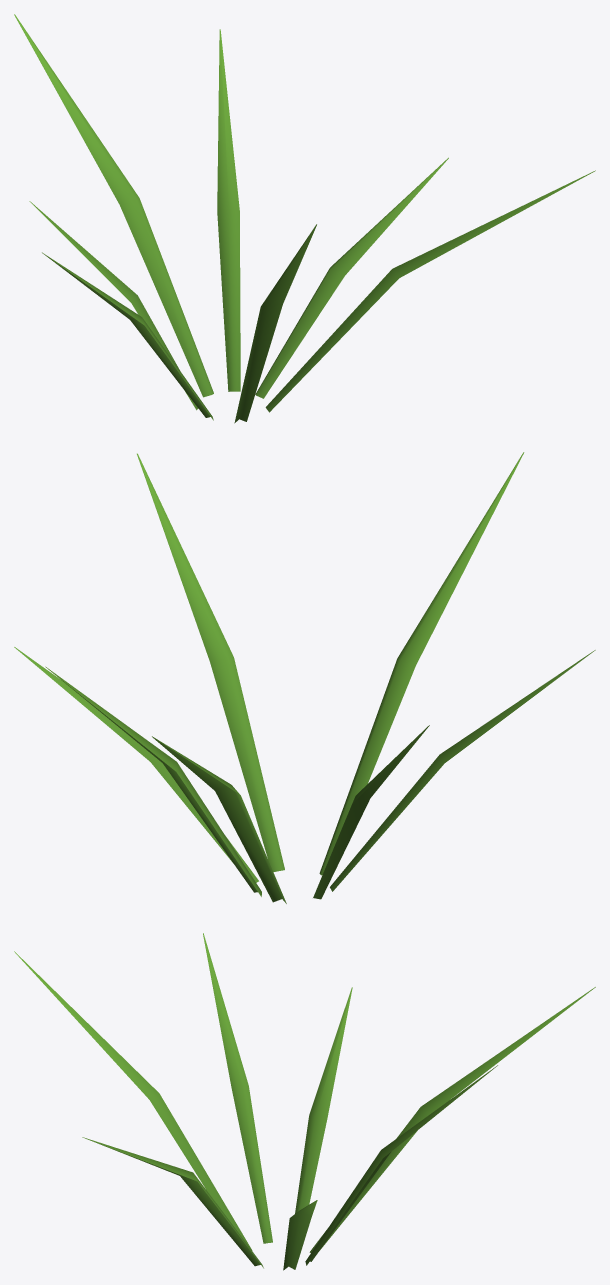
File: grass-tuft.glb
3 views of the same model, one above another, from view 1: azimuth 30°, elevation 25°; view 2: azimuth 150°, elevation 25°; view 3: azimuth 270°, elevation 25° (orthographic). The views are drawn at different scales.
Parts seen in each view (by area): view 1: Grass tuft Grass; view 2: Grass tuft Grass; view 3: Grass tuft Grass.
Part boxes in pixels (<box>): Grass tuft Grass: <box>14,14,595,423</box>; Grass tuft Grass: <box>14,452,595,903</box>; Grass tuft Grass: <box>14,933,595,1270</box>.
Size of the model in its own units: 0.4892 by 0.294 by 0.559.
